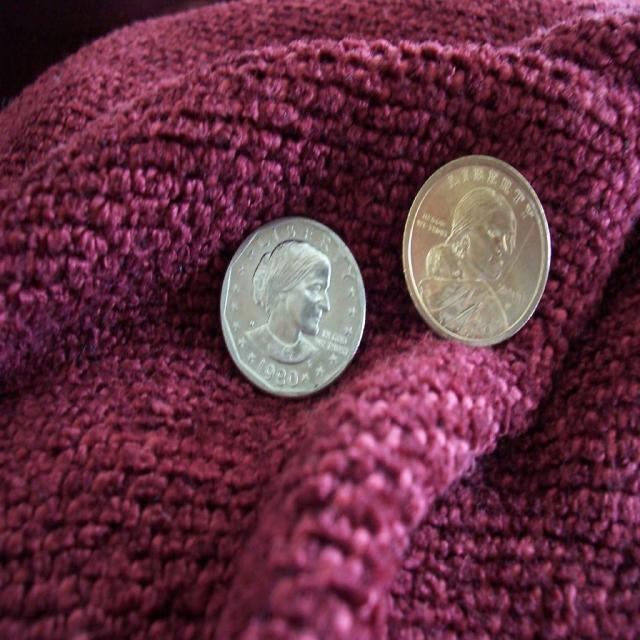Coin: (402, 155, 552, 349), (219, 213, 368, 399)
